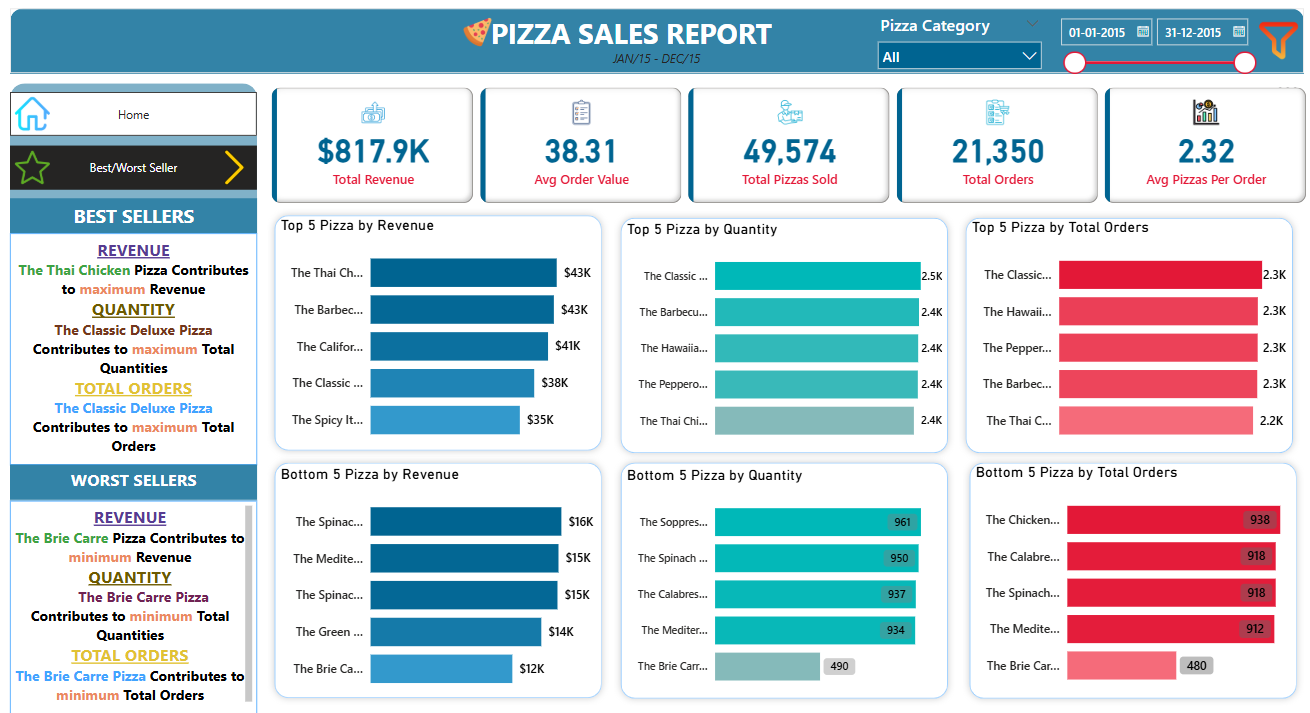

This screenshot's page, from the dashboard's own definition file:
{"tool":"powerbi","page":{"name":"Best/Worst Seller","canvas":[1500,820],"ordinal":1},"visuals":[{"type":"shape","box":[11.1,12.5,1479,75.2],"z":0},{"type":"textbox","box":[555.1,13.7,389.7,94.7],"z":1000},{"type":"image","box":[505.5,18.1,79.4,43.2],"z":2000},{"type":"slicer","fields":{"Values":["pizza_sales.pizza_category"]},"box":[993,13.9,207.5,75.2],"z":3000},{"type":"slicer","fields":{"Values":["pizza_sales.order_date"]},"box":[1200.2,14.1,243.9,75.7],"z":4000},{"type":"image","box":[1426.1,0,71,98.9],"z":5000},{"type":"shape","box":[11.1,98.9,282.7,721.4],"z":6000},{"type":"textbox","box":[11.1,229.8,282.7,40.4],"z":7000},{"type":"textbox","box":[11.1,270.2,282.7,264.6],"z":8000},{"type":"textbox","box":[11.1,534.8,282.7,40.4],"z":9000},{"type":"textbox","box":[11.1,575.2,282.7,245.1],"z":10000},{"type":"cardVisual","fields":{"Data":["pizza_sales.Total Revenue","pizza_sales.Avg Order Value","pizza_sales.Total Pizzas Sold","pizza_sales.Total Orders","pizza_sales.Avg Pizzas Per Order"]},"box":[306.4,98.9,1193.5,142.1],"z":11000},{"type":"shape","box":[306.4,240.9,390,285],"z":12000},{"type":"shape","box":[701.2,243.7,389.9,285],"z":13000},{"type":"shape","box":[1096,243.7,390,285],"z":14000},{"type":"shape","box":[306.4,523.6,390,285],"z":15000},{"type":"shape","box":[701.9,523.6,389.9,285.5],"z":16000},{"type":"shape","box":[1100.2,523.6,390,285.5],"z":17000},{"type":"barChart","title":"Top 5 Pizza by Revenue","fields":{"Category":["pizza_sales.pizza_name"],"Y":["pizza_sales.Total Revenue"]},"box":[316.1,250.7,380.2,273],"z":18000},{"type":"barChart","title":"Top 5 Pizza by Quantity","fields":{"Category":["pizza_sales.pizza_name"],"Y":["pizza_sales.Total Pizzas Sold"]},"box":[711.7,254.9,370.5,268.8],"z":19000},{"type":"barChart","title":"Top 5 Pizza by Total Orders","fields":{"Category":["pizza_sales.pizza_name"],"Y":["pizza_sales.Total Orders"]},"box":[1105.8,253.5,369.1,270.2],"z":20000},{"type":"barChart","title":"Bottom 5 Pizza by Revenue","fields":{"Category":["pizza_sales.pizza_name"],"Y":["pizza_sales.Total Revenue"]},"box":[316.1,534.8,380.2,273],"z":21000},{"type":"barChart","title":"Bottom 5 Pizza by Quantity","fields":{"Category":["pizza_sales.pizza_name"],"Y":["pizza_sales.Total Pizzas Sold"]},"box":[711.1,535.3,371,268.3],"z":22000},{"type":"barChart","title":"Bottom 5 Pizza by Total Orders","fields":{"Category":["pizza_sales.pizza_name"],"Y":["pizza_sales.Total Orders"]},"box":[1110,533.4,387.2,270.2],"z":23000},{"type":"pageNavigator","box":[11.1,169.9,282.7,50.1],"z":24000},{"type":"pageNavigator","box":[11.6,109.1,282.4,50.1],"z":25000},{"type":"image","box":[11.1,108.6,51.5,50.1],"z":26000},{"type":"image","box":[11.1,169.9,51.5,50.1],"z":27000},{"type":"image","box":[240.9,169.9,52.9,50.1],"z":28000}]}

Visuals, with their boxes in screenshot pixels (x1, y1, x2, y2), scaled from the page's 1500x820 canvas onto the 1310x713 screenshot:
shape: 10,11,1301,76
textbox: 485,12,825,94
image: 441,16,511,53
slicer - pizza_sales.pizza_category: 867,12,1048,77
slicer - pizza_sales.order_date: 1048,12,1261,78
image: 1245,0,1307,86
shape: 10,86,257,712
textbox: 10,200,257,235
textbox: 10,235,257,465
textbox: 10,465,257,500
textbox: 10,500,257,712
cardVisual - pizza_sales.Total Revenue x pizza_sales.Avg Order Value: 268,86,1309,210
shape: 268,209,608,457
shape: 612,212,953,460
shape: 957,212,1298,460
shape: 268,455,608,703
shape: 613,455,954,704
shape: 961,455,1301,704
"Top 5 Pizza by Revenue" barChart: 276,218,608,455
"Top 5 Pizza by Quantity" barChart: 622,222,945,455
"Top 5 Pizza by Total Orders" barChart: 966,220,1288,455
"Bottom 5 Pizza by Revenue" barChart: 276,465,608,702
"Bottom 5 Pizza by Quantity" barChart: 621,465,945,699
"Bottom 5 Pizza by Total Orders" barChart: 969,464,1308,699
pageNavigator: 10,148,257,191
pageNavigator: 10,95,257,138
image: 10,94,55,138
image: 10,148,55,191
image: 210,148,257,191
